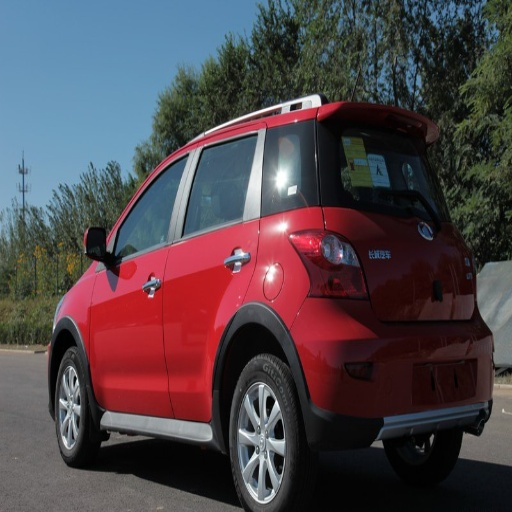back_bumper: (307, 307, 492, 428)
back_glass: (347, 132, 436, 204)
back_left_door: (163, 132, 264, 420)
tailgate: (357, 248, 452, 319)
trunk: (337, 212, 462, 315), (347, 307, 474, 394), (307, 368, 370, 412)
